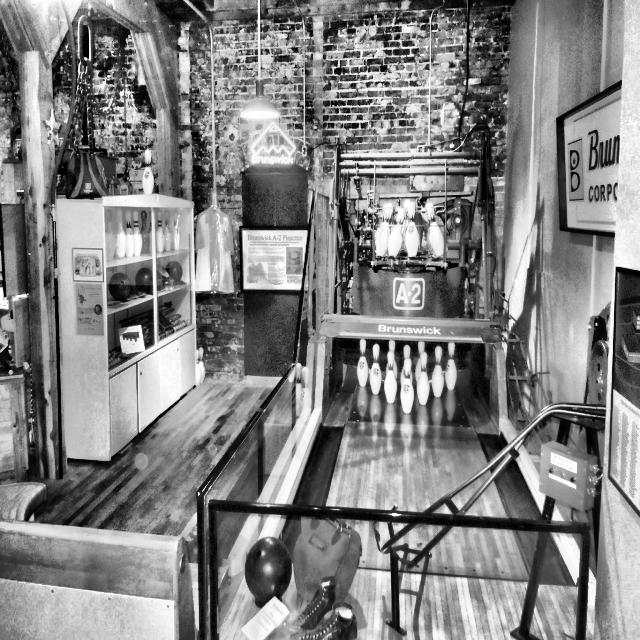bowling-pins: (401, 359, 415, 414), (384, 349, 398, 403), (417, 351, 430, 405), (432, 346, 445, 397), (445, 342, 458, 390), (370, 344, 382, 394), (357, 339, 369, 387), (389, 340, 399, 380), (415, 356, 422, 384), (401, 362, 406, 387), (404, 345, 411, 359), (419, 341, 425, 355)
sweep board: (320, 314, 503, 344)
